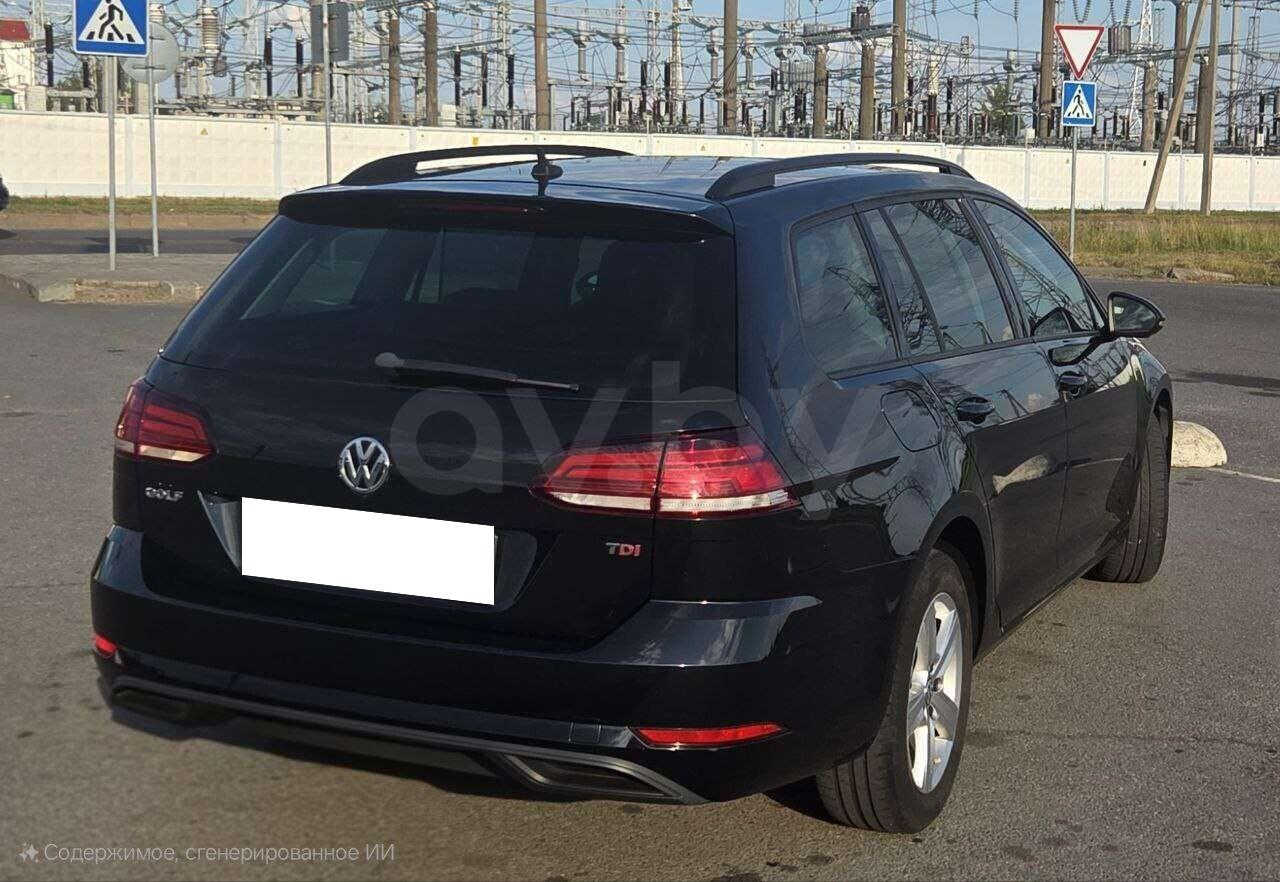Golf_2017-2021: (89, 150, 1180, 831)
